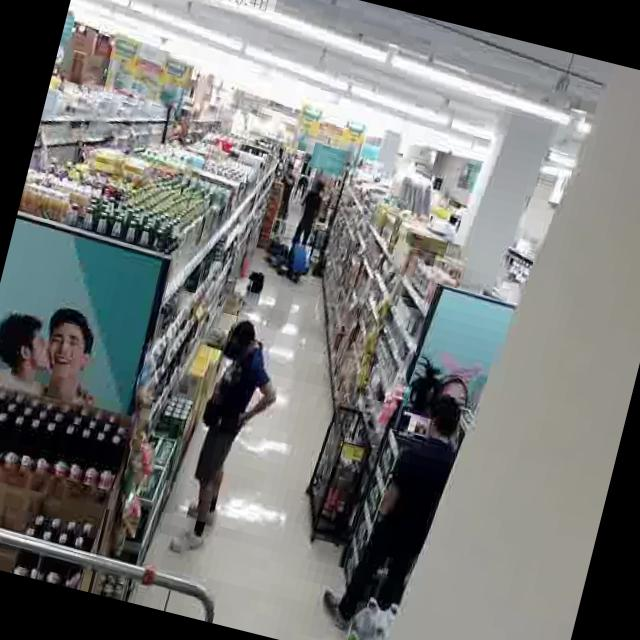shoplifting: (143, 292, 310, 579)
